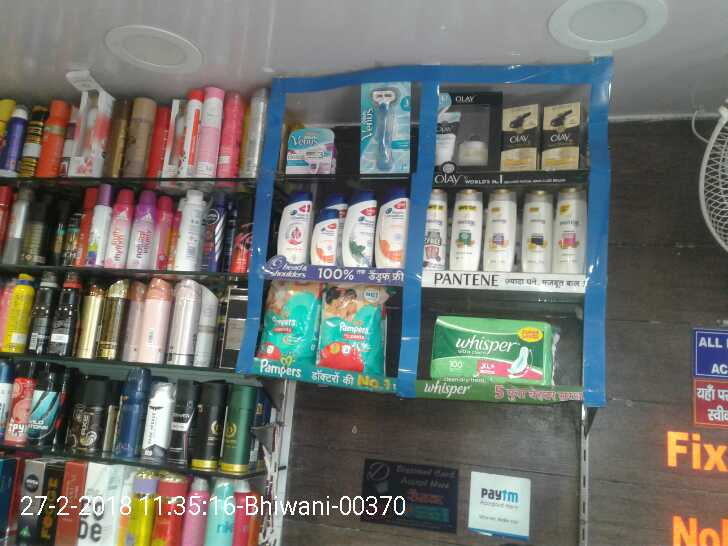venus: (356, 80, 411, 174), (288, 128, 338, 172)
